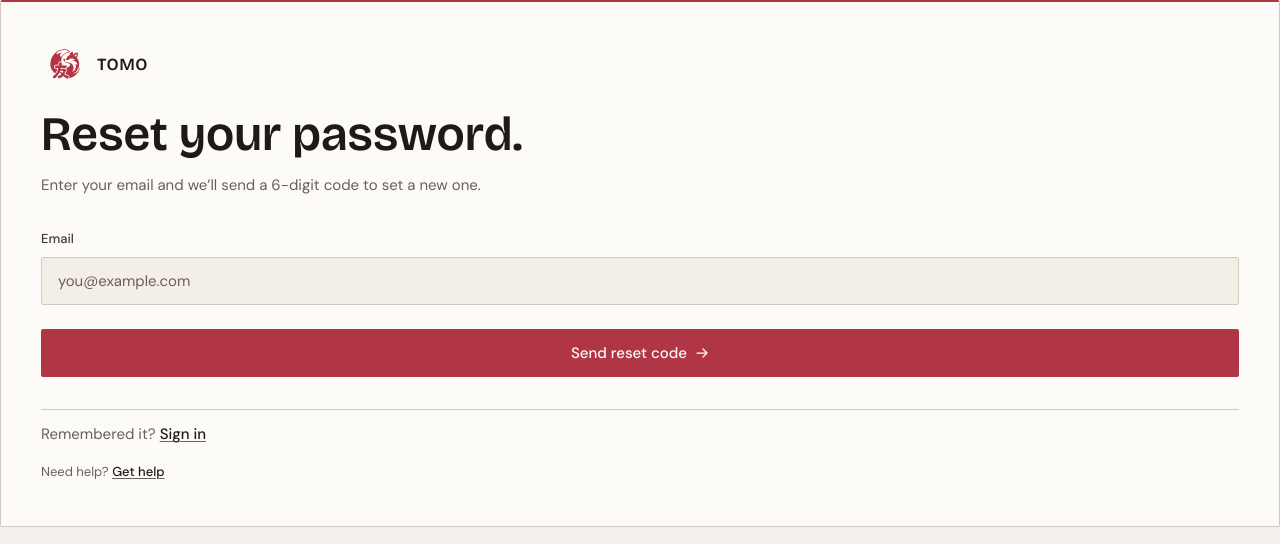
Test: forgotPasswordPage › verify view › surfaces a friendly error when the code is invalid
Type "user@example.com" into the field labelled "Email" at point(640, 281), box x1=41 y1=257 x2=1239 y2=305
Click the button "Send reset code" at point(640, 353), box x1=41 y1=329 x2=1239 y2=377
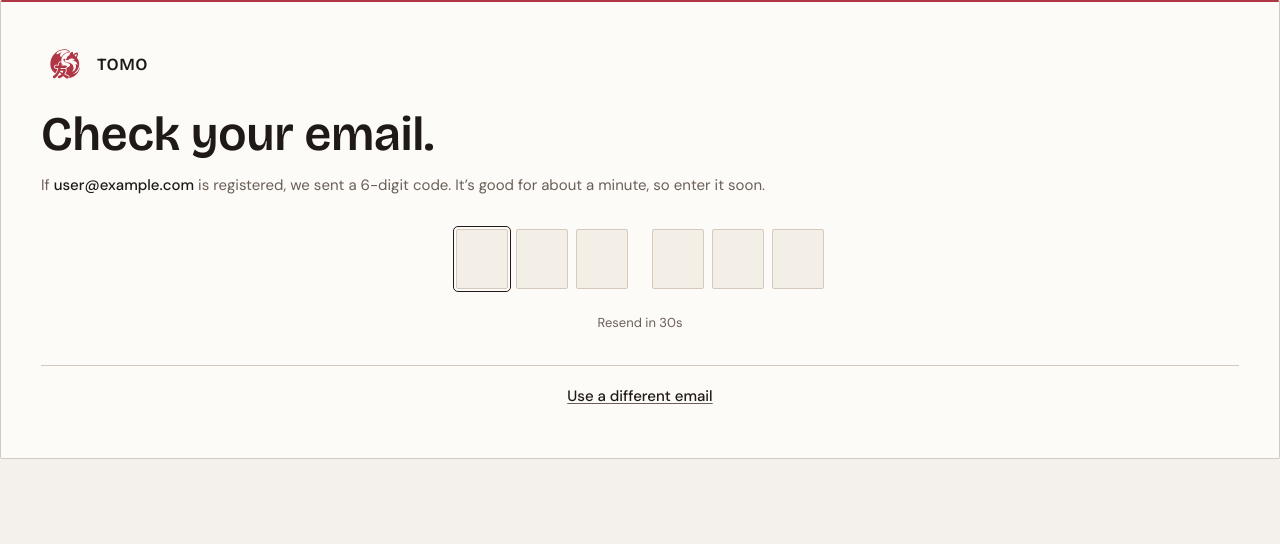
Expected: the heading "Check your email." is shown, x1=41 y1=105 x2=434 y2=163
Type "0" into the field named "Digit 1 of 6" at point(482, 259), box x1=456 y1=229 x2=508 y2=289
Type "0" into the field named "Digit 2 of 6" at point(542, 259), box x1=516 y1=229 x2=568 y2=289
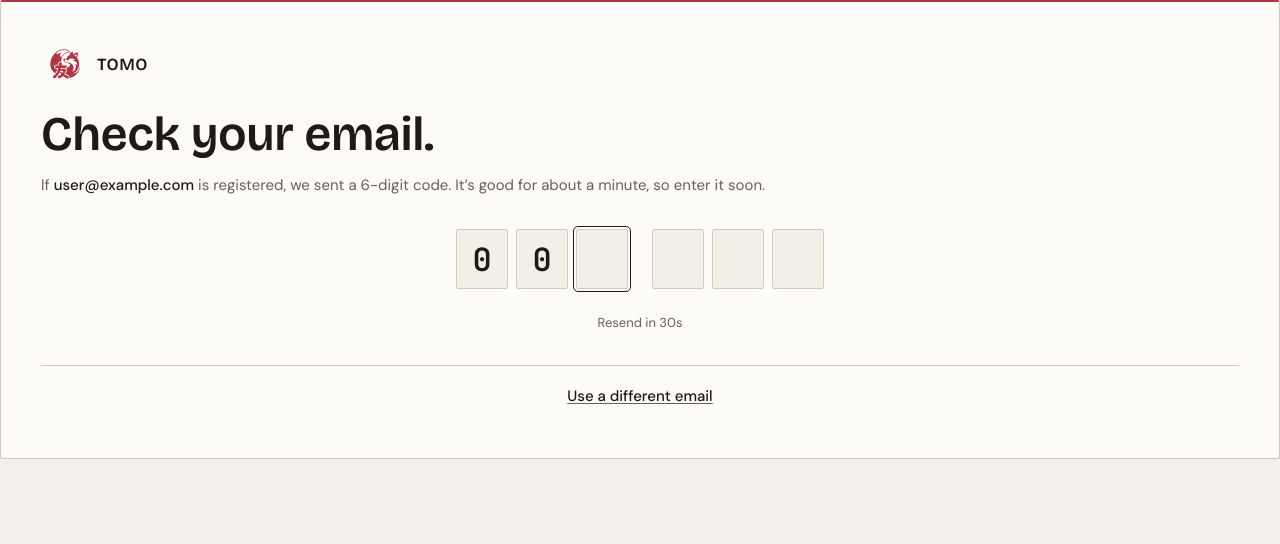
Type "0" into the field named "Digit 3 of 6" at point(602, 259), box x1=576 y1=229 x2=628 y2=289
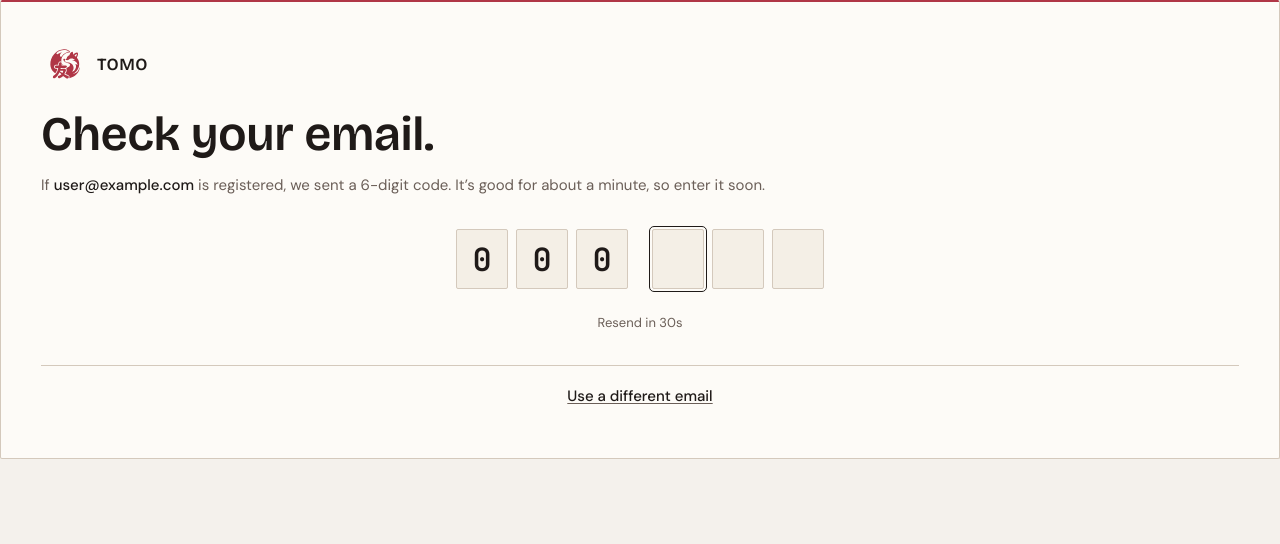
Type "0" into the field named "Digit 4 of 6" at point(678, 259), box x1=652 y1=229 x2=704 y2=289
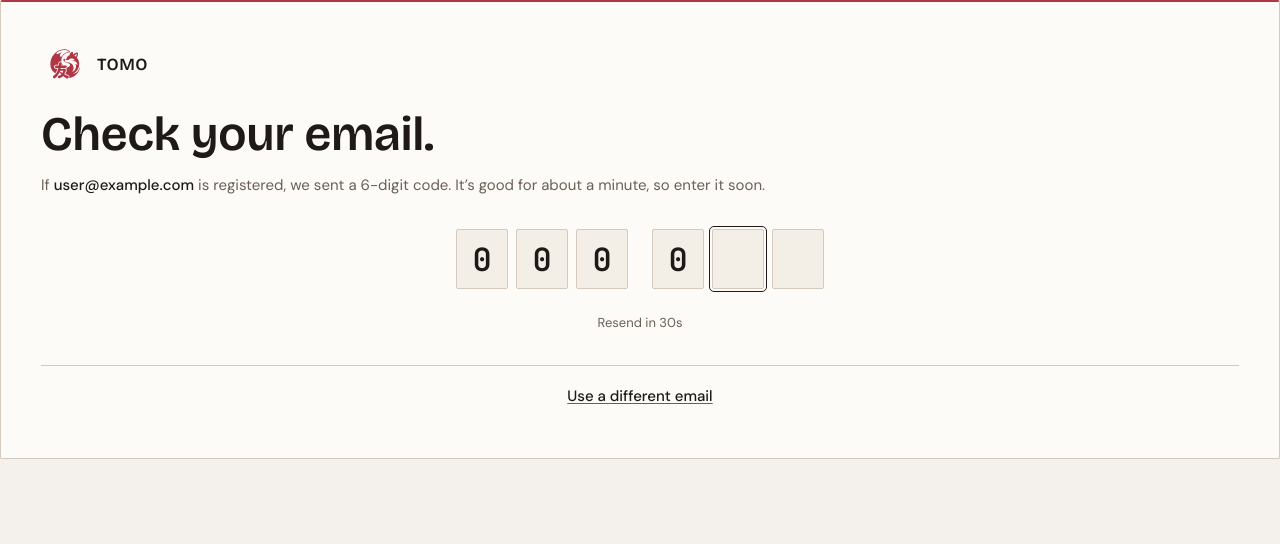
Type "0" into the field named "Digit 5 of 6" at point(738, 259), box x1=712 y1=229 x2=764 y2=289
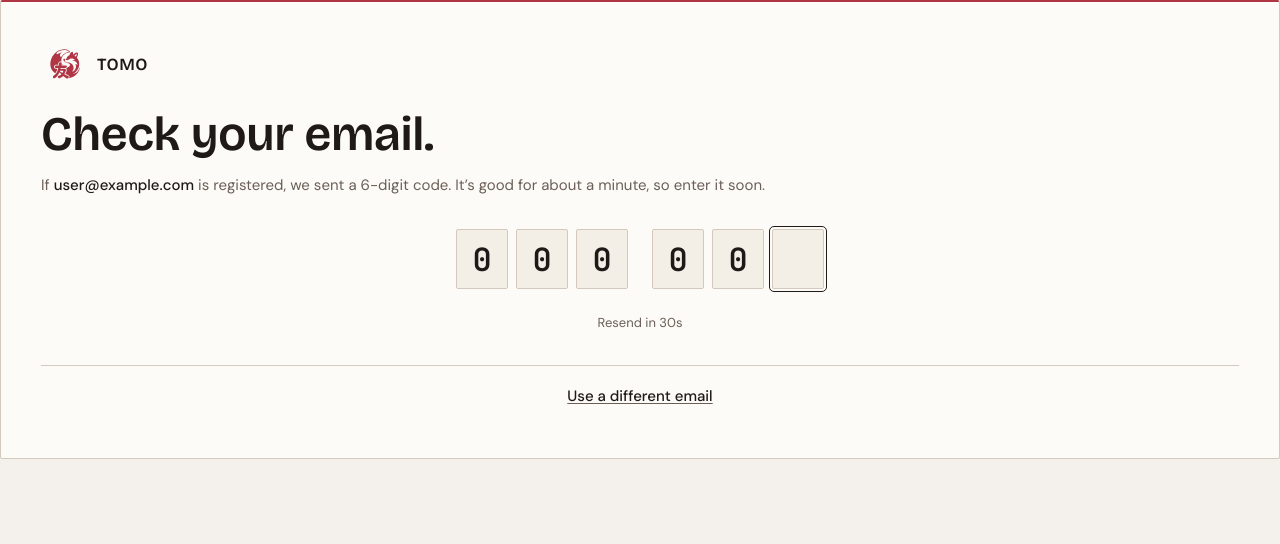
Type "0" into the field named "Digit 6 of 6" at point(798, 259), box x1=772 y1=229 x2=824 y2=289
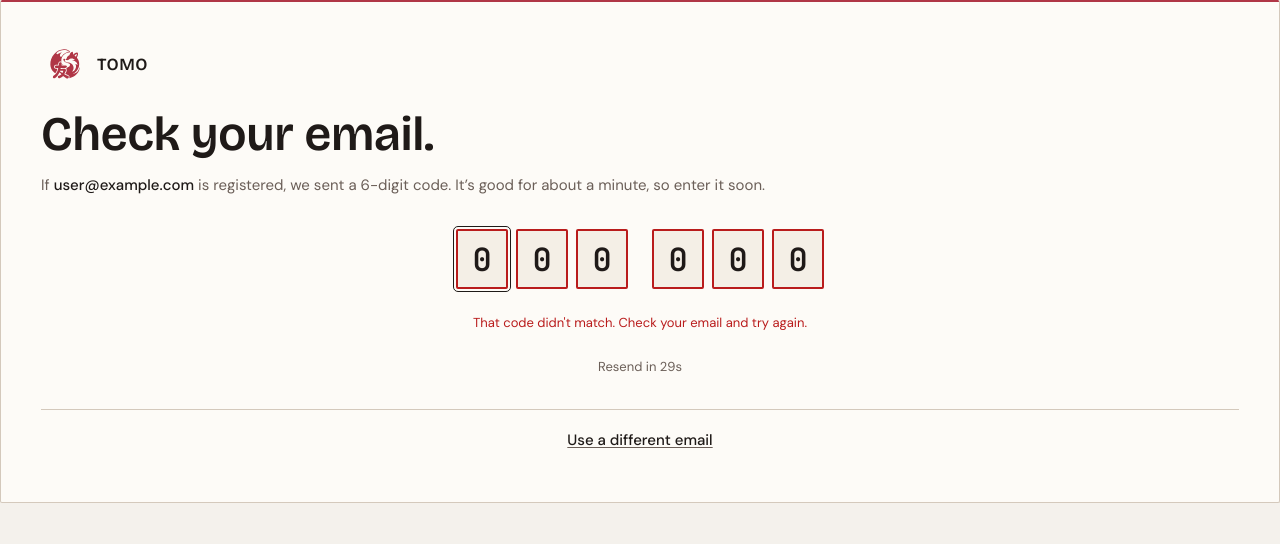
Expected: the message shows "That code didn't match", x1=473 y1=314 x2=807 y2=331
